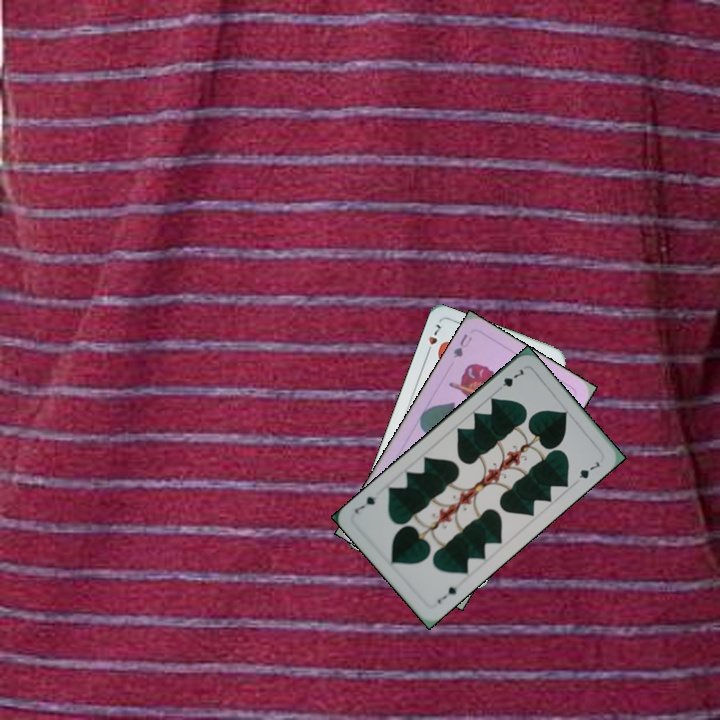G7: (492, 365, 526, 395), (433, 583, 460, 606)
GU: (449, 330, 475, 360)
H7: (422, 320, 443, 358)
